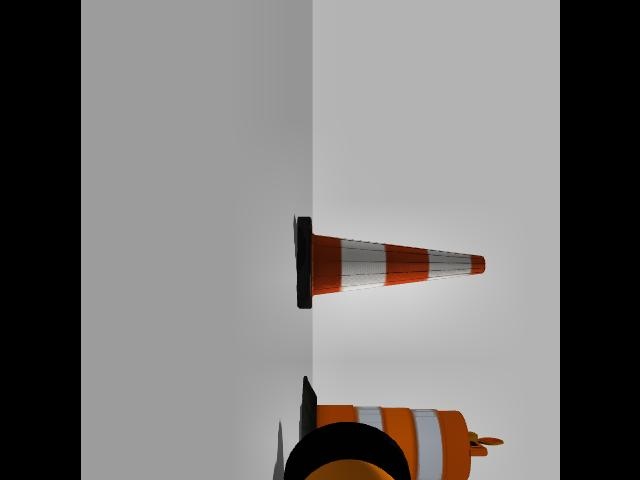target: (275, 420, 430, 480)
